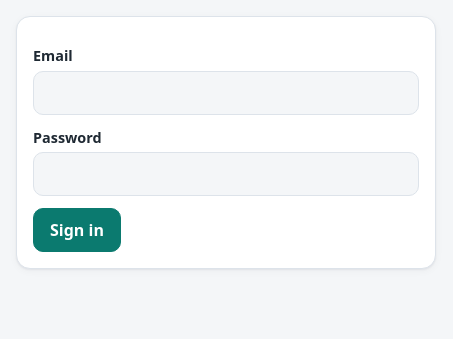
LoginGate › shows the error when signing in fails for another reason
In the field labelled "Email": (226,93) [33,71,419,115], type "me@example.com"
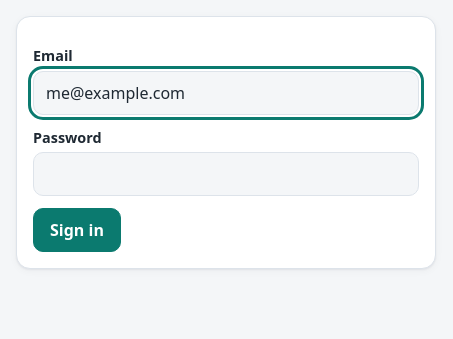
In the password field labelled "Password": (226,174) [33,152,419,196], type "password123"
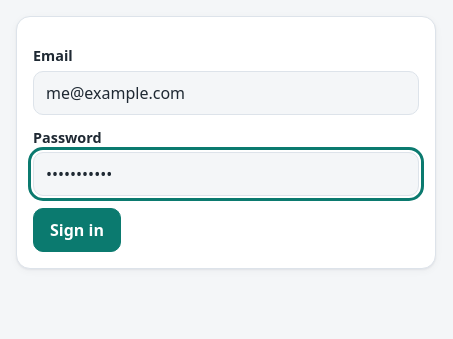
Click the button "Sign in": (77,230) [33,208,121,252]
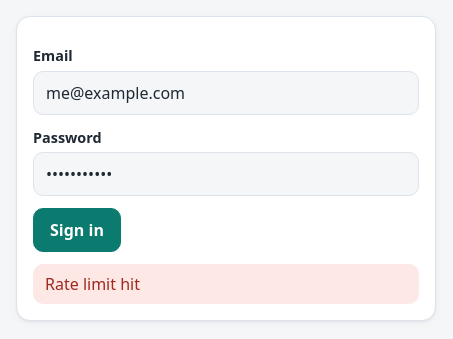
expect the text "Rate limit hit" is shown: met, box [33,264,419,304]
